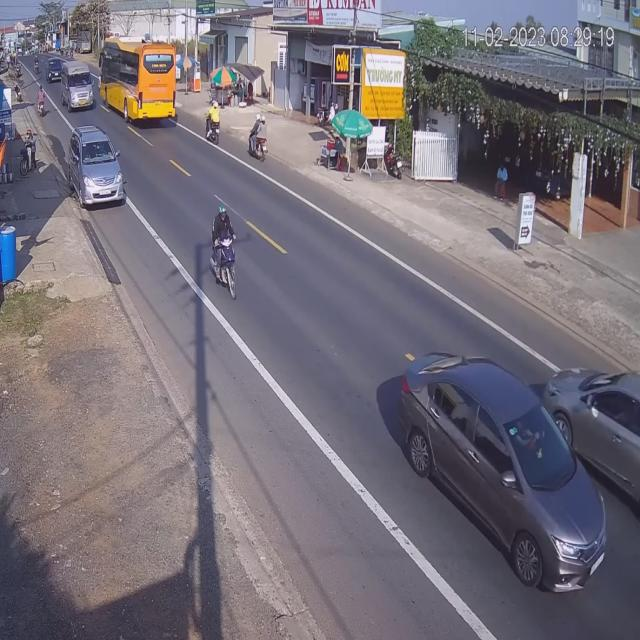bus: (99, 38, 177, 127), (62, 62, 96, 112)
car: (401, 352, 610, 595), (544, 368, 638, 548), (67, 123, 126, 209), (46, 54, 62, 84)
motorbike: (211, 204, 239, 296), (247, 115, 267, 163), (205, 104, 221, 148)
